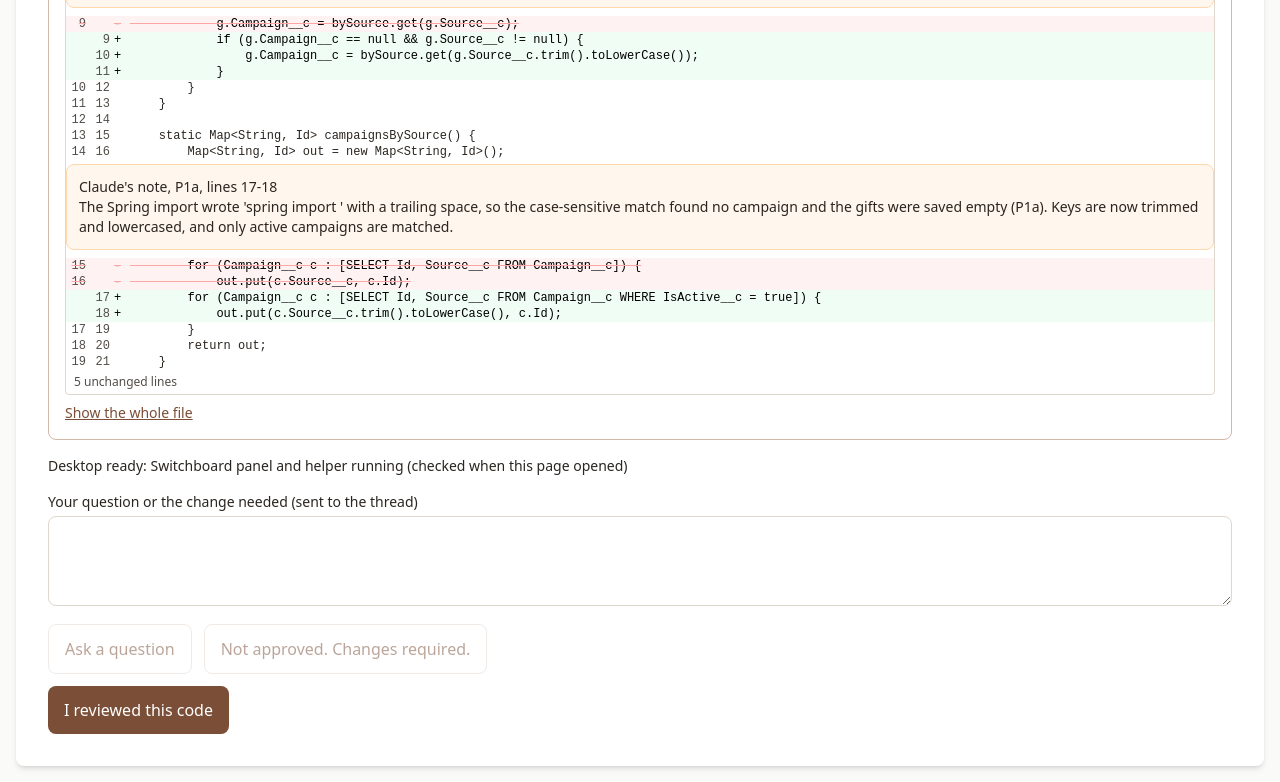
Test: the live review route › the review, with its request's headline and code; I reviewed this code posts the function's line
(page scrolled)
Click the button with test id "review-reviewed" at (138, 710), box [48,686,229,734]
(page scrolled)
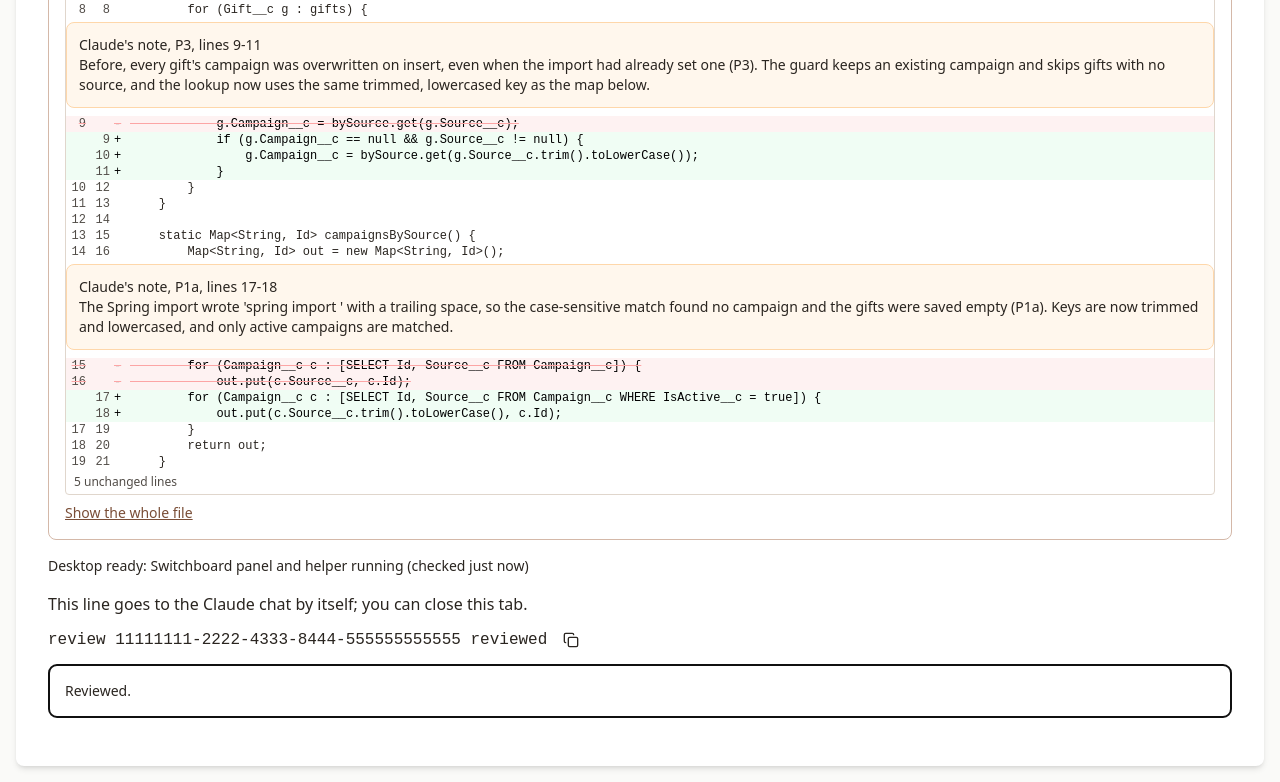
Expected: the message "Reviewed." is shown, [48,664,1232,718]
